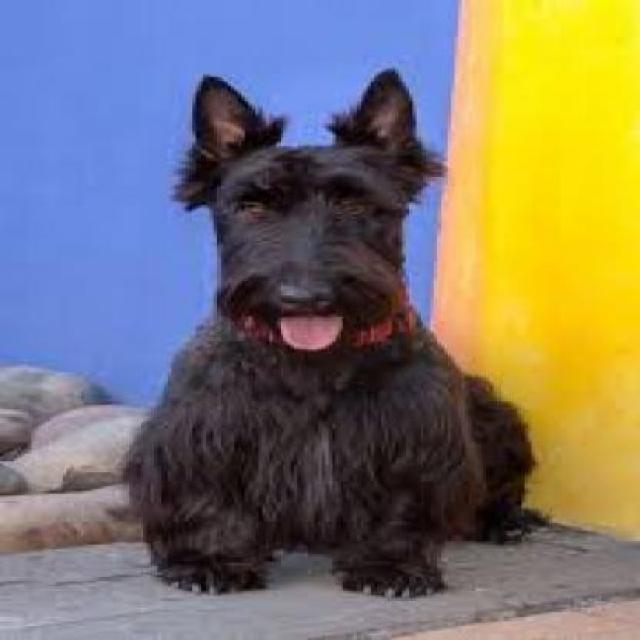animals: (111, 65, 554, 613)
